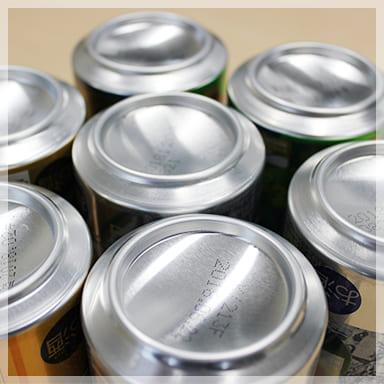metal: (85, 215, 322, 377), (75, 91, 266, 220), (4, 181, 96, 377), (233, 36, 377, 145), (72, 9, 232, 104), (278, 140, 384, 275), (5, 61, 87, 177)
